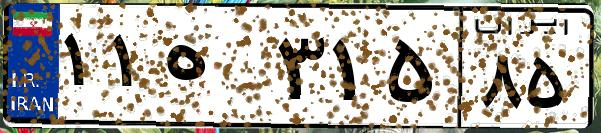1: (330, 28, 385, 110), (57, 26, 110, 100), (110, 28, 158, 98)
3: (270, 28, 330, 110)
5: (385, 28, 445, 110), (525, 38, 570, 115)
8: (475, 38, 525, 113)
ه: (158, 20, 270, 120)
